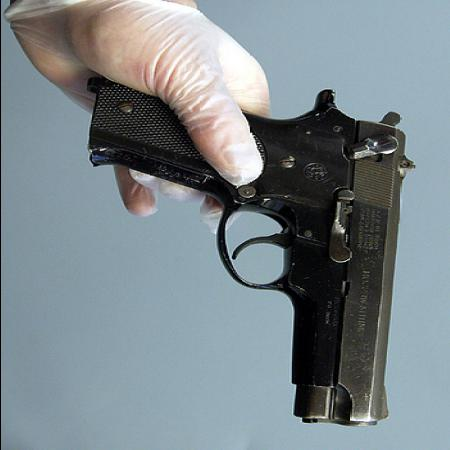Pistol: (90, 78, 420, 432)
